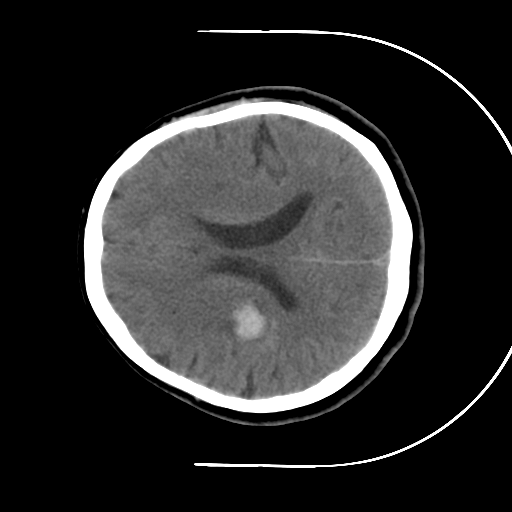a: (209, 288, 286, 352)
